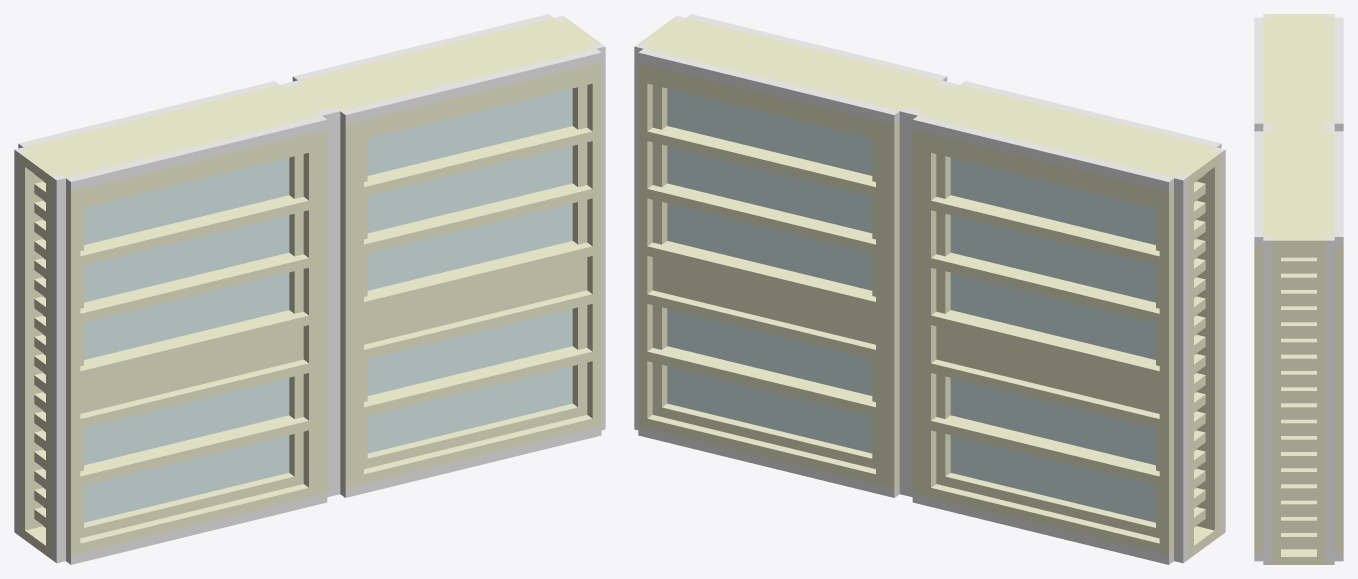
Rendered from Med Bay Wall 1.obj.
3 views of the same model, side by side, from view 1: azimuth 30°, elevation 25°; view 2: azimuth 150°, elevation 25°; view 3: azimuth 270°, elevation 25° (orthographic). The views are drawn at different scales.
Bounding box in the file's own units: 60 × 40 × 10.
Materials: 1 (1 with a texture image).
